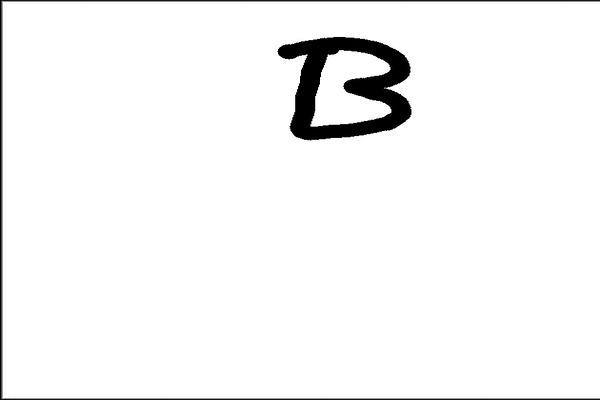B: (271, 28, 427, 147)
